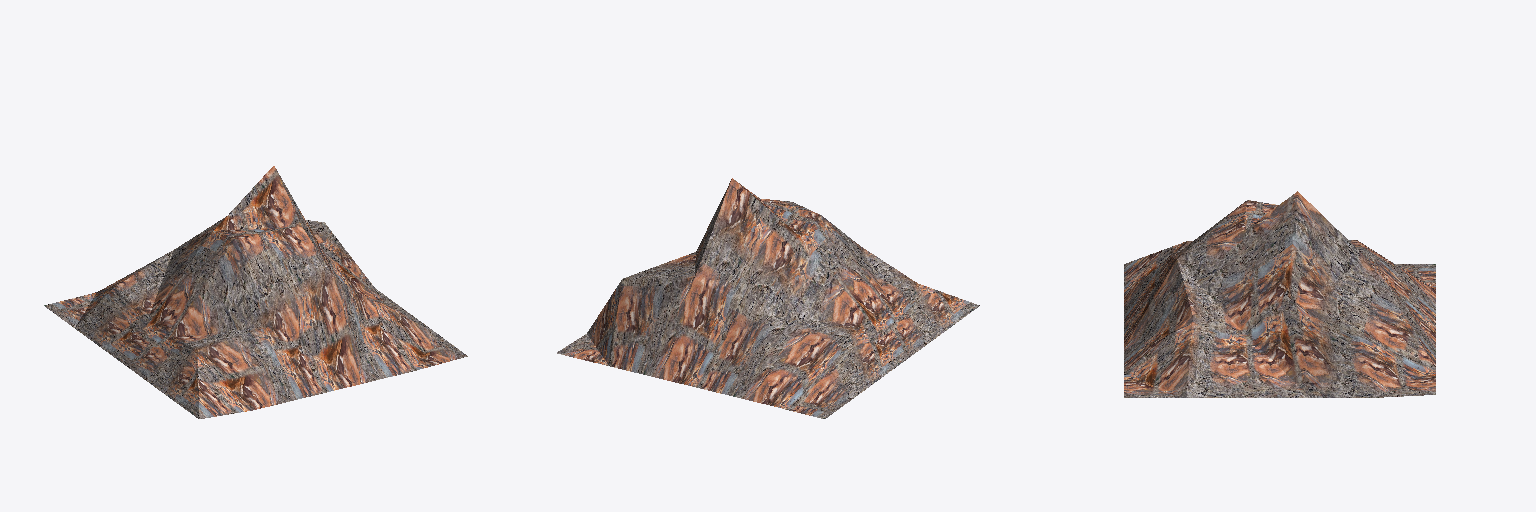
3 renders of one model, left to right at view 1: azimuth 30°, elevation 25°; view 2: azimuth 150°, elevation 25°; view 3: azimuth 270°, elevation 25°, orthographic.
Visible parts, largest first — view 1: pPlane1; view 2: pPlane1; view 3: pPlane1.
Part boxes in pixels (bbox=[...]): pPlane1: bbox=[44, 166, 467, 418]; pPlane1: bbox=[557, 178, 979, 418]; pPlane1: bbox=[1124, 191, 1435, 397].
Size of the model in its own units: 9 by 4.97 by 9.
Materials: 1 (1 with a texture image).